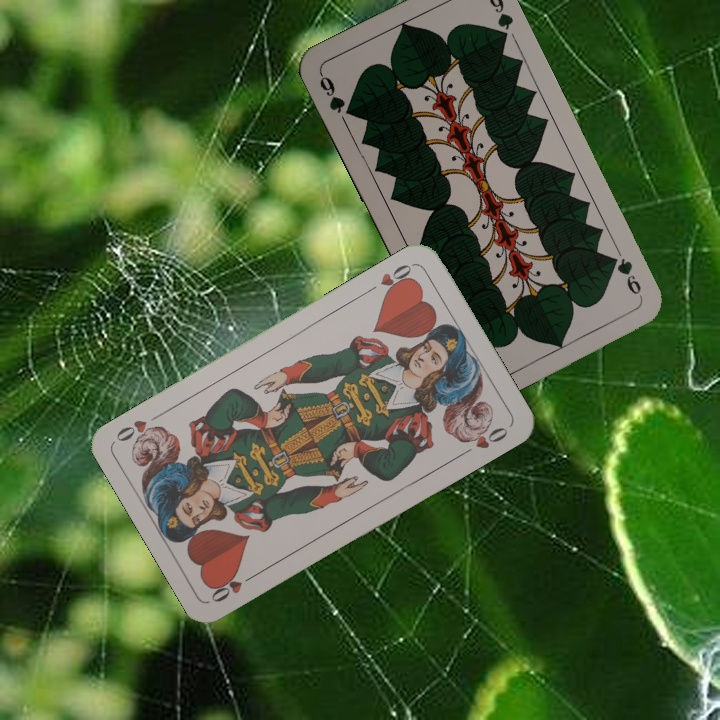G9: (316, 69, 358, 120), (604, 251, 646, 301)
HO: (362, 260, 416, 298), (206, 568, 261, 605)
